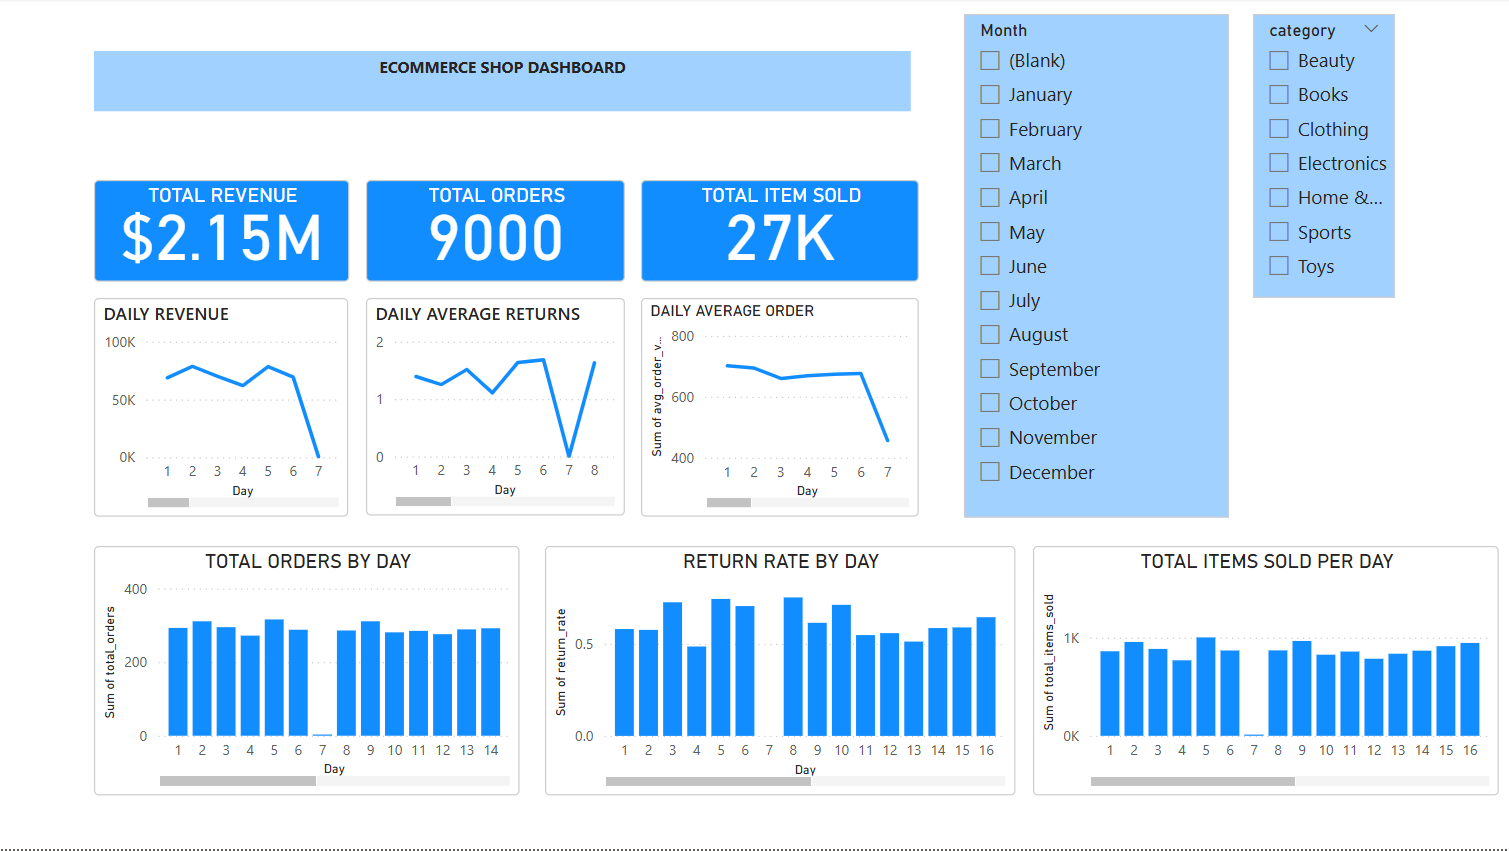

What the dashboard file says about the page in this screenshot:
{"tool":"powerbi","page":{"name":"Daily KPIs","canvas":[1280,720],"ordinal":0},"visuals":[{"type":"lineChart","title":"DAILY REVENUE","fields":{"Y":["Sum(results.daily_revenue)"],"Category":["results (1).order_date.Variation.Date Hierarchy.Day"]},"box":[82.8,253.5,215.5,185.1],"z":0},{"type":"columnChart","title":"TOTAL ORDERS BY DAY","fields":{"Category":["results (1).order_date.Variation.Date Hierarchy.Day"],"Y":["Sum(results (1).total_orders)"]},"box":[82.9,463.6,360.4,210.7],"z":1000},{"type":"columnChart","title":"TOTAL ITEMS SOLD PER DAY","fields":{"Category":["results (1).order_date.Variation.Date Hierarchy.Day"],"Y":["Sum(results (1).total_items_sold)"]},"box":[877.3,463.6,394.2,210.7],"z":2000},{"type":"lineChart","title":"DAILY AVERAGE ORDER","fields":{"Y":["Sum(results.avg_order_value)"],"Category":["results (1).order_date.Variation.Date Hierarchy.Day"]},"box":[545.7,253.8,235.2,185.3],"z":3000},{"type":"columnChart","title":"RETURN RATE BY DAY","fields":{"Category":["results (1).order_date.Variation.Date Hierarchy.Day"],"Y":["Sum(results (1).return_rate)"]},"box":[464.5,463.6,397.6,210.7],"z":4000},{"type":"lineChart","title":"DAILY AVERAGE RETURNS","fields":{"Category":["results (1).order_date.Variation.Date Hierarchy.Day"],"Y":["Sum(results.avg_return_rate)"]},"box":[313,253.8,219.1,184.4],"z":5000},{"type":"slicer","fields":{"Values":["results.category"]},"box":[822.8,13.2,175.4,448.7],"z":6000},{"type":"slicer","fields":{"Values":["results (1).order_date.Variation.Date Hierarchy.Month"]},"box":[1040.6,14.6,197.3,448.7],"z":7000},{"type":"card","title":"TOTAL REVENUE","fields":{"Values":["Sum(results (1).total_revenue)"]},"box":[82.9,154,215.7,86.3],"z":8000},{"type":"card","title":"TOTAL ORDERS","fields":{"Values":["Sum(results (1).total_orders)"]},"box":[313,154,219.1,86.3],"z":9000},{"type":"card","title":"TOTAL ITEM SOLD","fields":{"Values":["Sum(results (1).total_items_sold)"]},"box":[545.7,154,235.2,86.3],"z":10000},{"type":"textbox","box":[82.9,44.8,691.2,50.8],"z":11000}]}

Visuals, with their boxes in screenshot pixels (x1, y1, x2, y2), scaled from the page's 1280x720 canvas onto the 1509x851 screenshot:
"DAILY REVENUE" lineChart: bbox=[98, 300, 352, 518]
"TOTAL ORDERS BY DAY" columnChart: bbox=[98, 548, 523, 797]
"TOTAL ITEMS SOLD PER DAY" columnChart: bbox=[1034, 548, 1499, 797]
"DAILY AVERAGE ORDER" lineChart: bbox=[643, 300, 921, 519]
"RETURN RATE BY DAY" columnChart: bbox=[548, 548, 1016, 797]
"DAILY AVERAGE RETURNS" lineChart: bbox=[369, 300, 627, 518]
slicer - results.category: bbox=[970, 16, 1177, 546]
slicer - results (1).order_date.Variation.Date Hierarchy.Month: bbox=[1227, 17, 1459, 548]
"TOTAL REVENUE" card: bbox=[98, 182, 352, 284]
"TOTAL ORDERS" card: bbox=[369, 182, 627, 284]
"TOTAL ITEM SOLD" card: bbox=[643, 182, 921, 284]
textbox: bbox=[98, 53, 913, 113]
